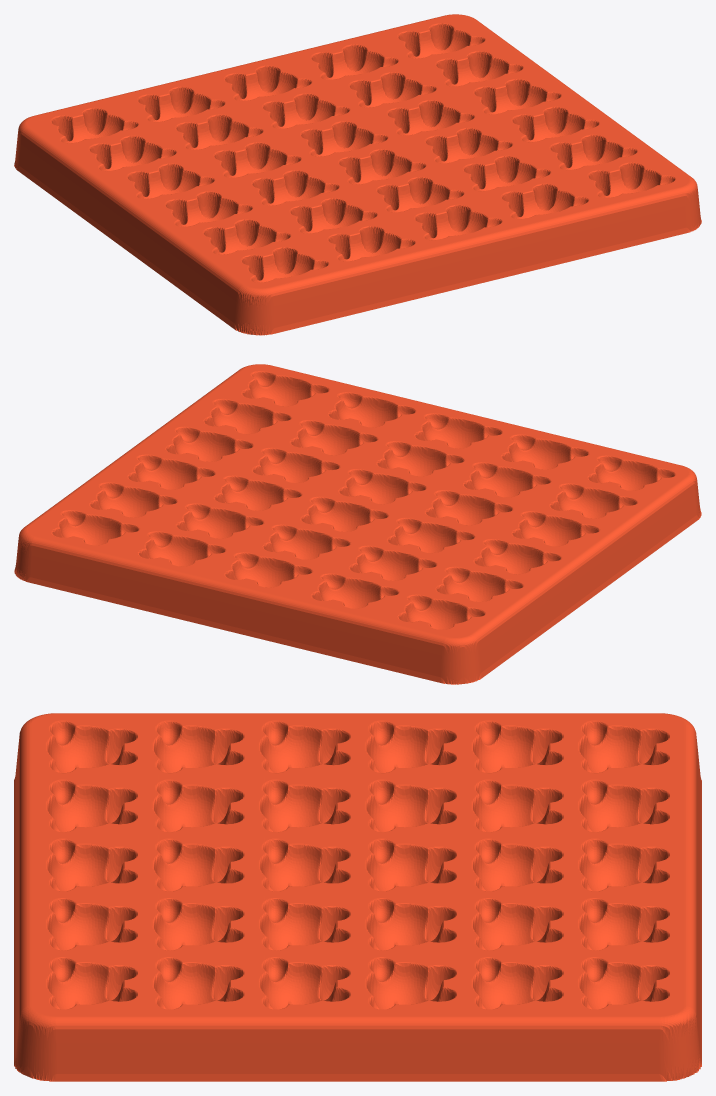
The model's file is mold.glb.
The picture shows the model from 3 angles, top to bottom: view 1: azimuth 30°, elevation 25°; view 2: azimuth 150°, elevation 25°; view 3: azimuth 270°, elevation 25°; orthographic projection. The views are drawn at different scales.
Visible parts, largest first — view 1: geometry_0; view 2: geometry_0; view 3: geometry_0.
Part boxes in pixels (x1,y1,x2,y2): geometry_0: (14,14,701,335); geometry_0: (14,364,701,684); geometry_0: (14,713,701,1081).
Size of the model in its own units: 0.1581 by 0.0135 by 0.1452.
